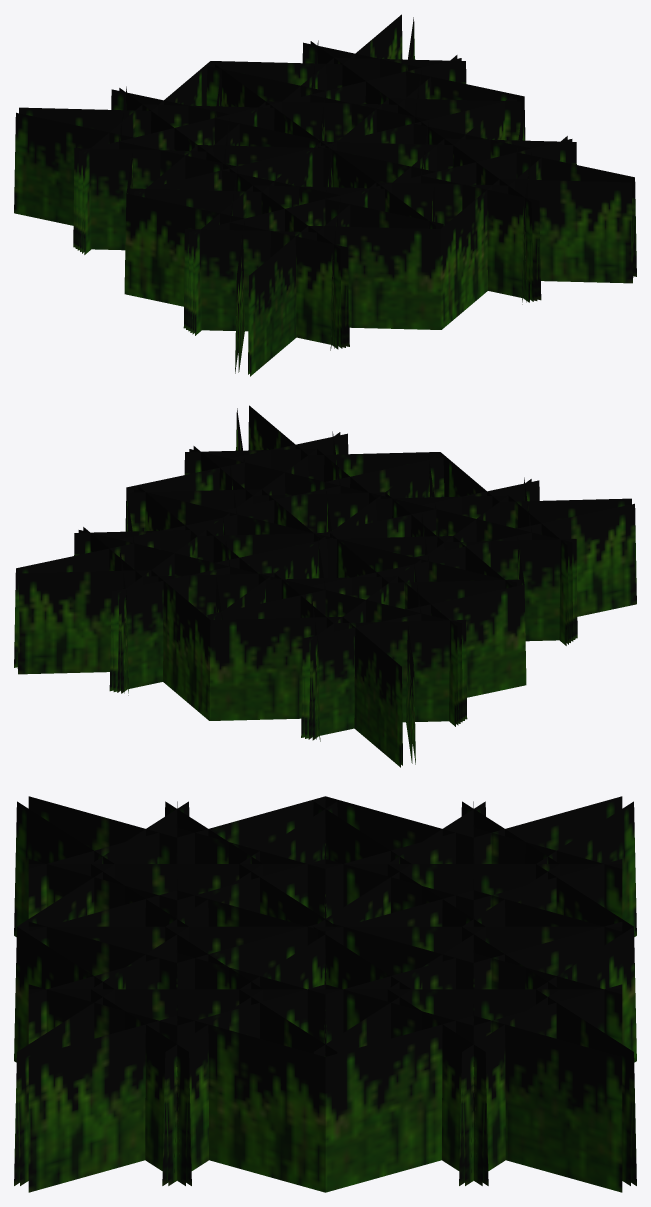
Rendered from grass_patch.gltf.
3 renders of one model, top to bottom at view 1: azimuth 30°, elevation 25°; view 2: azimuth 150°, elevation 25°; view 3: azimuth 270°, elevation 25°, orthographic. The views are drawn at different scales.
Parts seen in each view (by area): view 1: grass_patch; view 2: grass_patch; view 3: grass_patch.
Part boxes in pixels (left/top/right/bottom): grass_patch: left=14, top=14, right=636, bottom=376; grass_patch: left=14, top=405, right=636, bottom=767; grass_patch: left=14, top=796, right=636, bottom=1192.
Bounding box in the file's own units: 2.1 × 0.5 × 2.1.
1 material, 1 textured.
